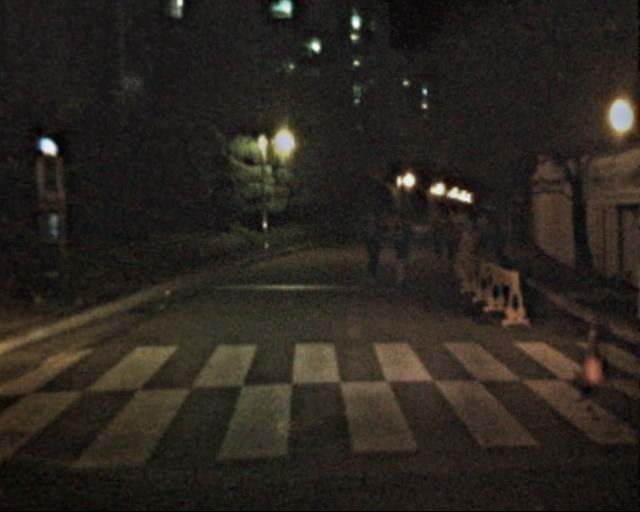person: (354, 211, 386, 288), (383, 209, 415, 286), (426, 214, 449, 269), (440, 216, 462, 270)
